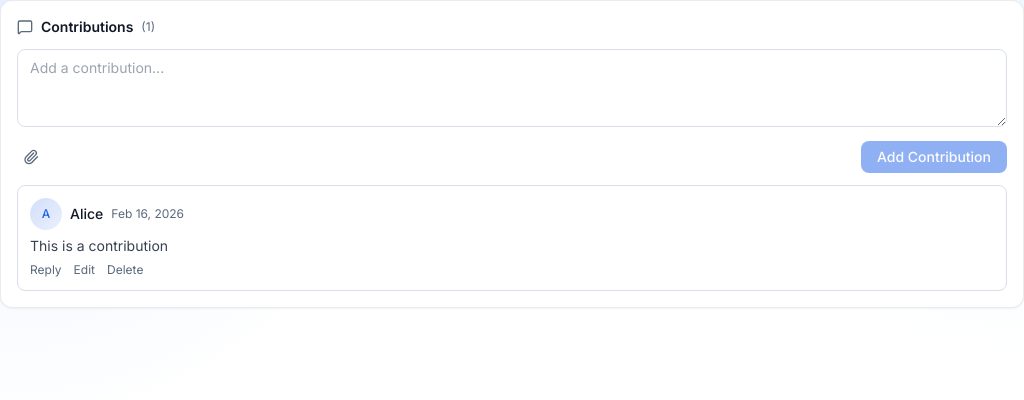
Test: CommentSection › Should_ShowEditForm_WhenEditClicked
This screenshot has width=1024, height=400.
Expected: the text "This is a contribution" is shown, top-left (30, 237), bottom-right (168, 254)
Click the button "Edit" at [84, 270], box top-left (74, 262), bottom-right (95, 278)
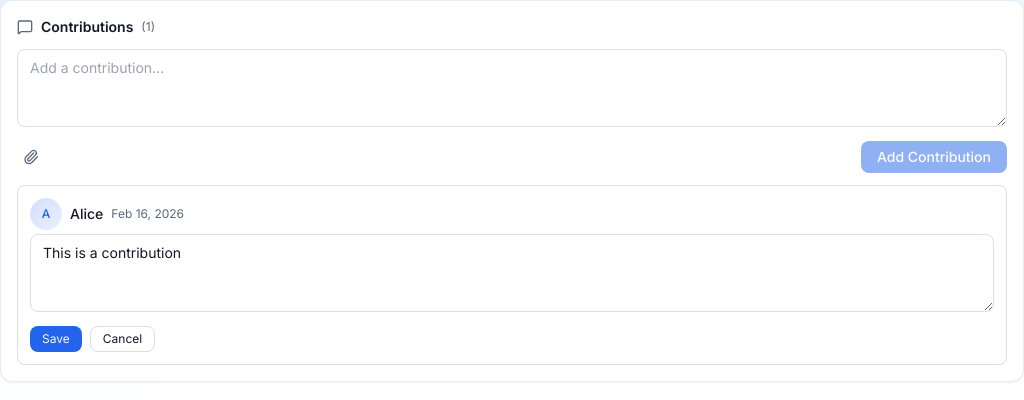
Now the text box showing "This is a contribution" is shown, box top-left (30, 234), bottom-right (994, 312)
